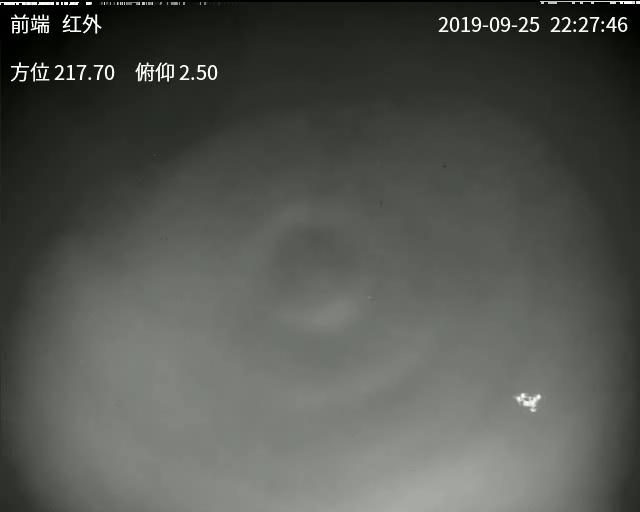uav: (523, 386, 550, 415)
